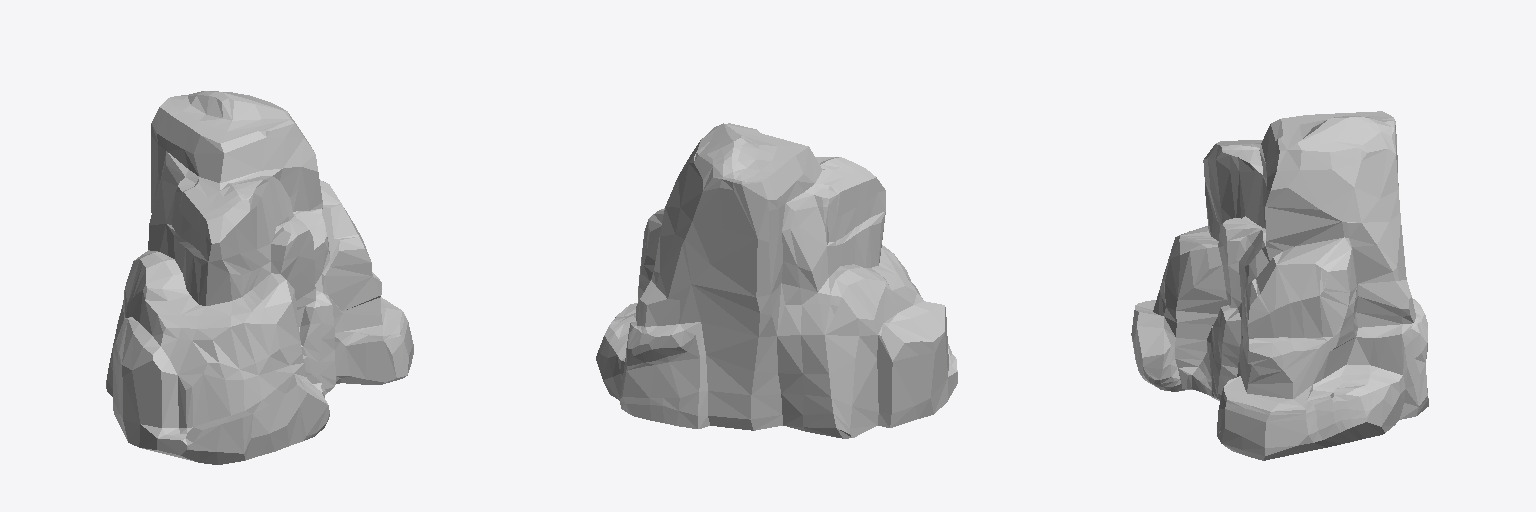
Rendered from Rock_Big_1.obj.
The picture shows the model from 3 angles: view 1: azimuth 30°, elevation 25°; view 2: azimuth 150°, elevation 25°; view 3: azimuth 270°, elevation 25°; orthographic projection.
Visible parts, largest first — view 1: Rock_Big_1; view 2: Rock_Big_1; view 3: Rock_Big_1.
Boxes of the visible parts, x1=… form: Rock_Big_1: x1=106, y1=91, x2=413, y2=464; Rock_Big_1: x1=596, y1=123, x2=957, y2=438; Rock_Big_1: x1=1131, y1=111, x2=1428, y2=460.
Bounding box in the file's own units: 5.2 × 4.58 × 4.45.